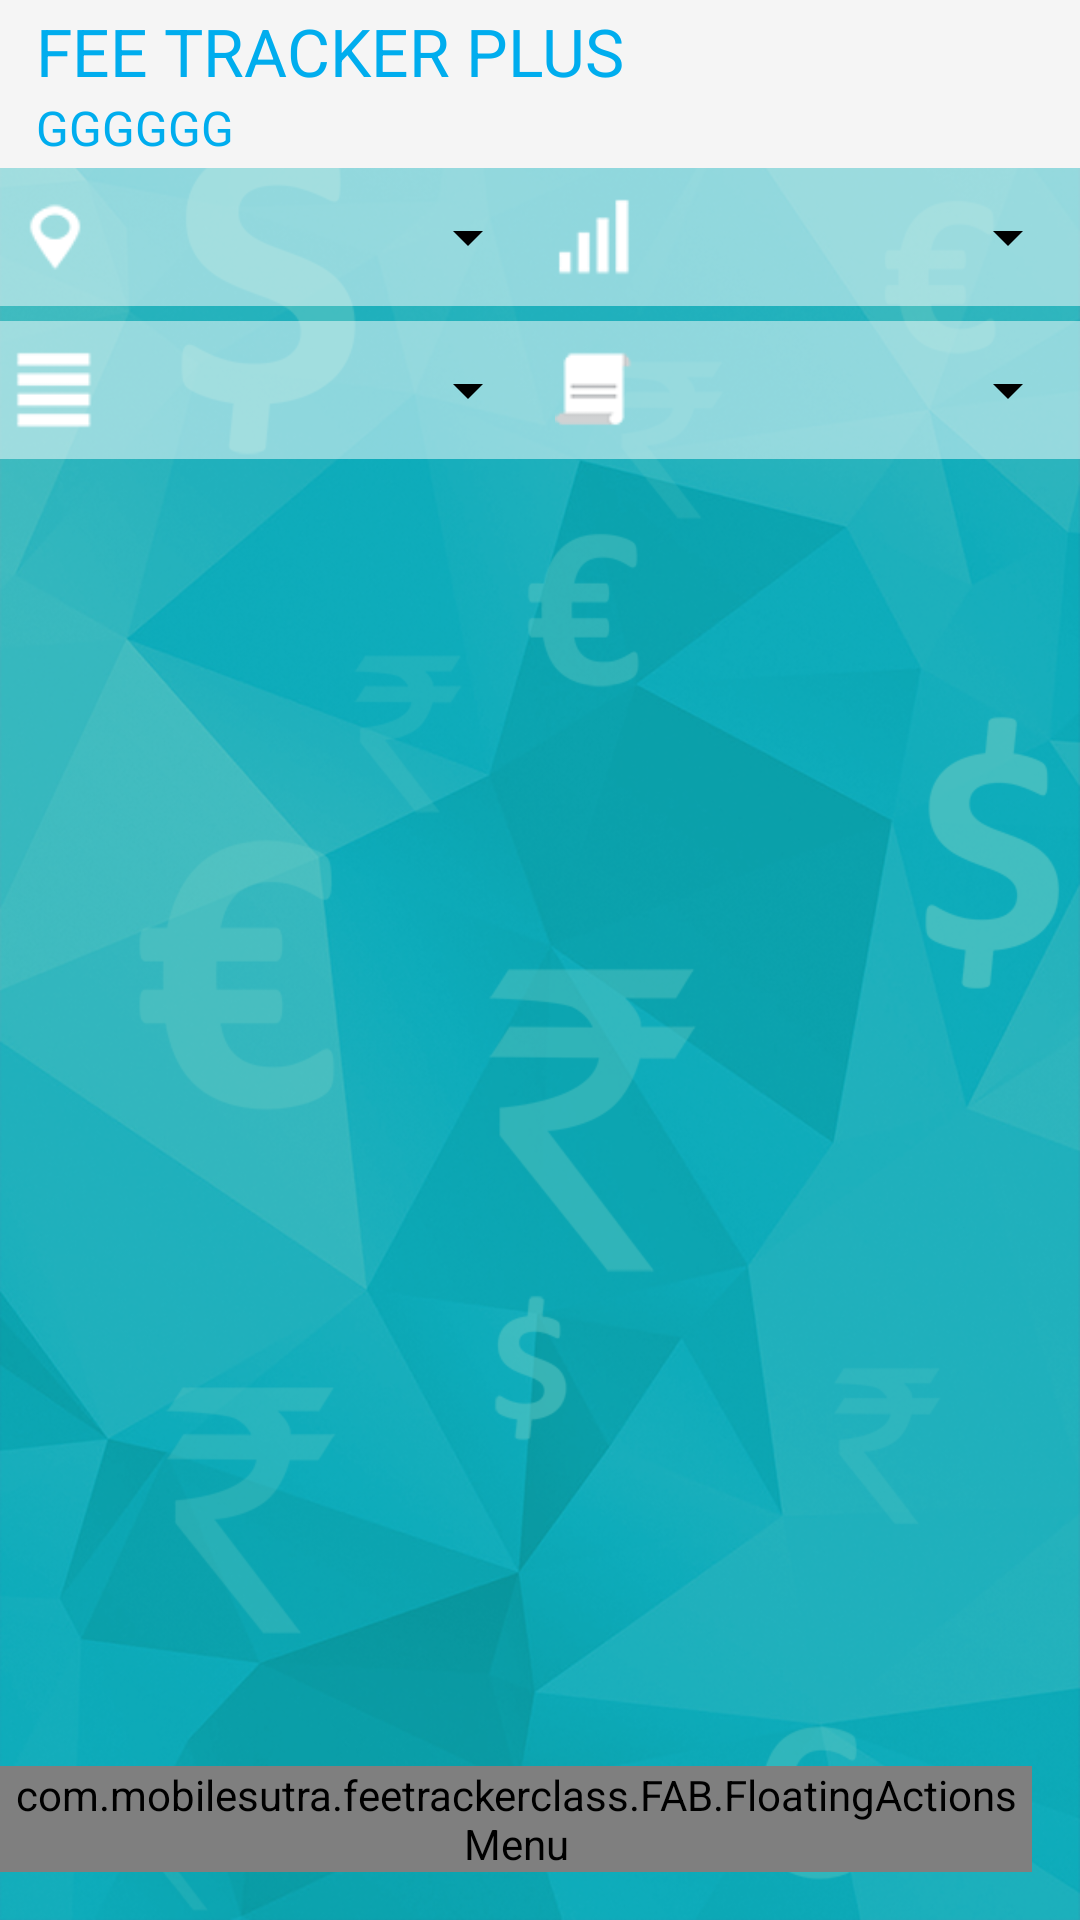

Icon click points for this 1080×1920 phone screenshot, format [x,y]:
branchloca: [55,237]
